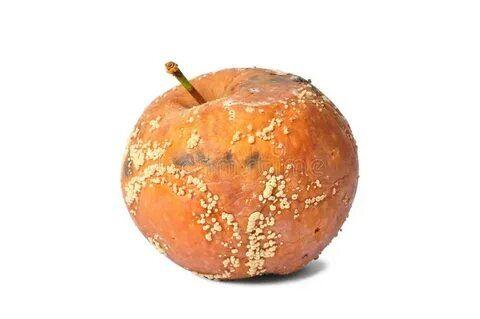Apple: (123, 67, 358, 280)
